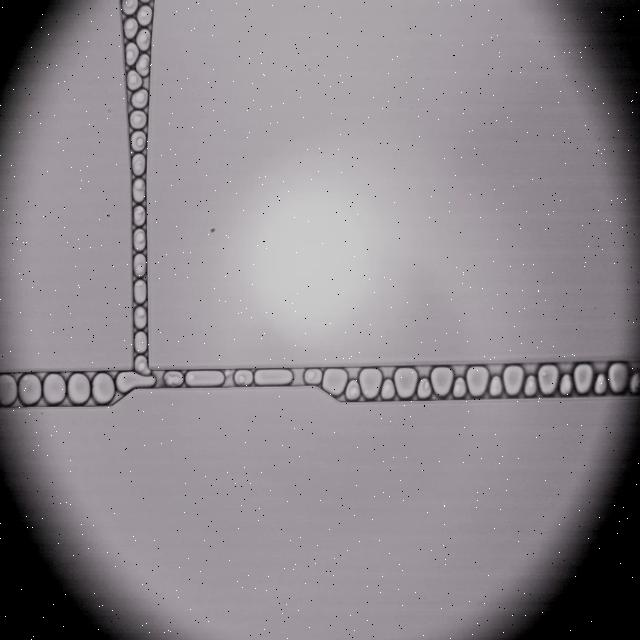L: (131, 89, 148, 108), (127, 70, 142, 90), (345, 380, 360, 400), (126, 42, 139, 65), (132, 179, 145, 202), (134, 280, 147, 303), (130, 111, 147, 128), (304, 369, 322, 385), (124, 17, 137, 39), (133, 229, 146, 251), (164, 371, 183, 386), (234, 370, 253, 385), (417, 379, 431, 399), (137, 29, 150, 50), (136, 55, 149, 76), (132, 154, 145, 175), (133, 254, 146, 275), (134, 331, 147, 352), (381, 379, 394, 400), (489, 376, 502, 397), (135, 356, 150, 374), (138, 6, 152, 25), (131, 131, 145, 150), (453, 378, 466, 398), (134, 307, 146, 328), (122, 0, 138, 15), (524, 375, 536, 395), (560, 375, 572, 395), (594, 374, 606, 394), (133, 206, 145, 225), (630, 372, 640, 393)
S: (118, 371, 155, 392), (359, 369, 382, 399), (394, 367, 417, 397), (19, 374, 41, 405), (68, 373, 90, 404), (92, 373, 114, 404), (44, 374, 66, 404), (467, 366, 488, 397), (323, 369, 347, 396), (431, 367, 453, 396), (503, 365, 523, 395), (573, 364, 593, 394), (608, 363, 628, 393), (538, 365, 558, 394), (186, 371, 224, 386), (255, 370, 292, 385), (0, 374, 17, 406)
